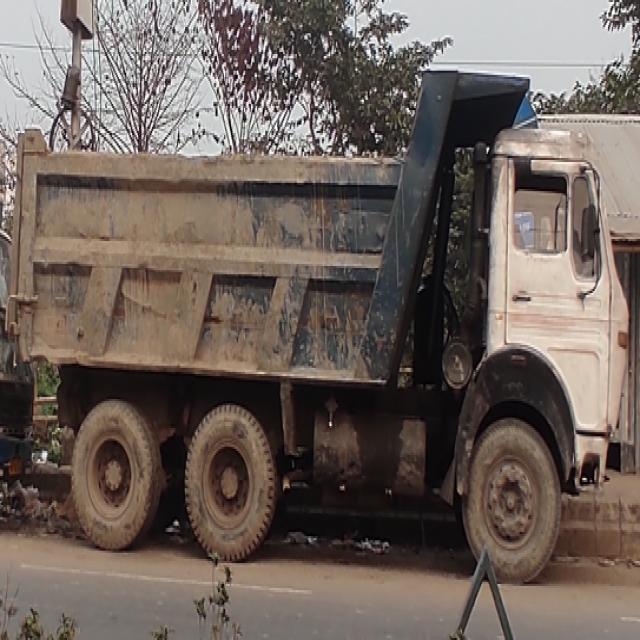truck: (14, 64, 633, 572)
